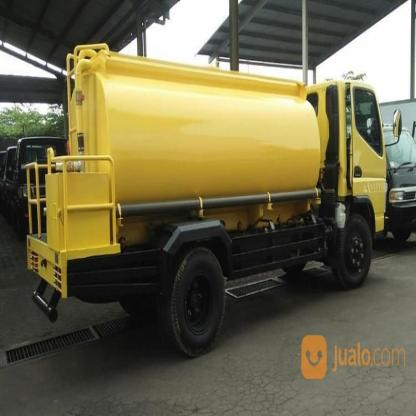truck: (22, 40, 402, 356)
